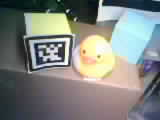duck: (71, 31, 119, 85)
